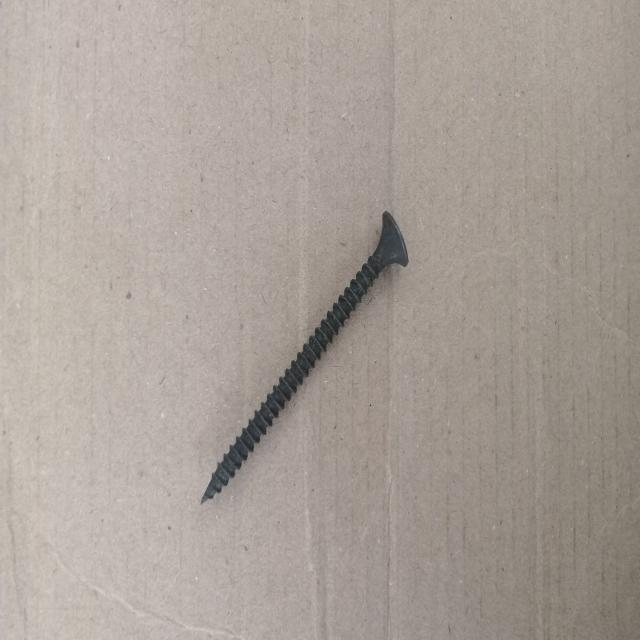screw: (199, 210, 409, 507)
